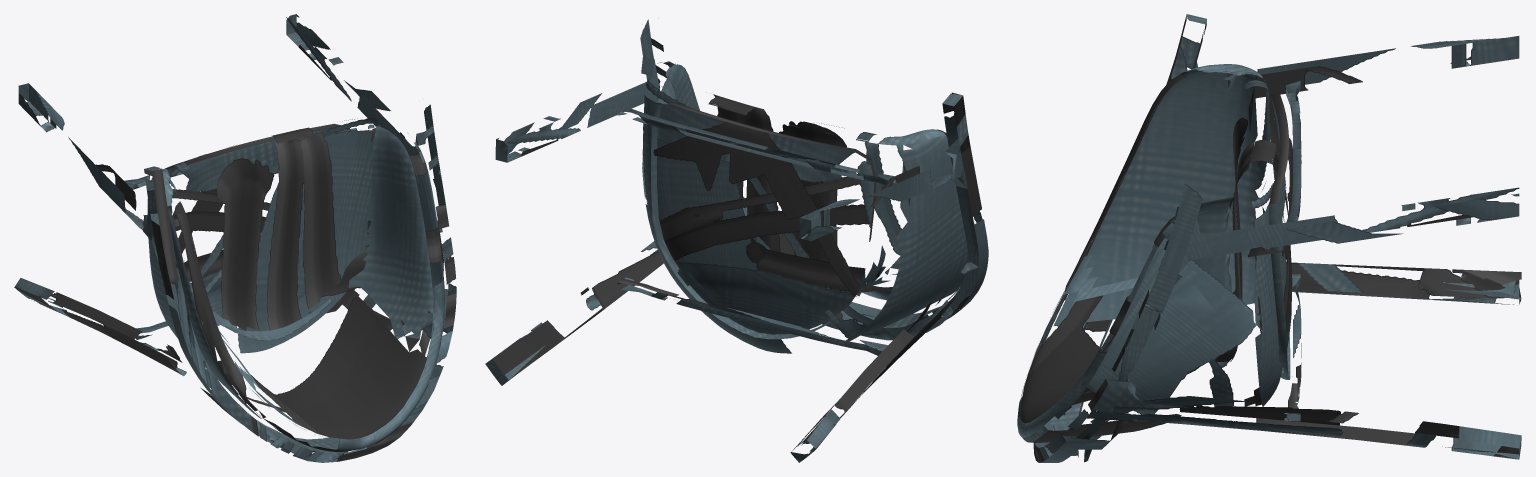
The picture shows the model from 3 angles, left to right: view 1: azimuth 30°, elevation 25°; view 2: azimuth 150°, elevation 25°; view 3: azimuth 270°, elevation 25°; orthographic projection. The views are drawn at different scales.
Bounding box in the file's own units: 0.6633 × 0.6102 × 0.7983.
